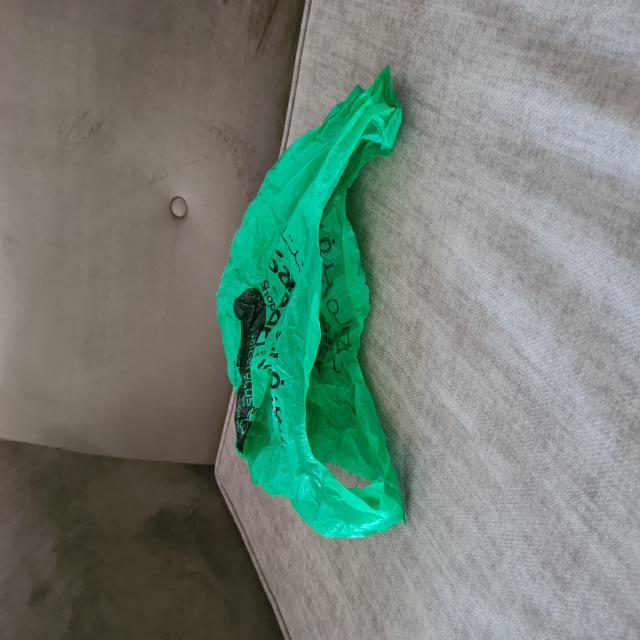plastic bag: (216, 59, 406, 536)
